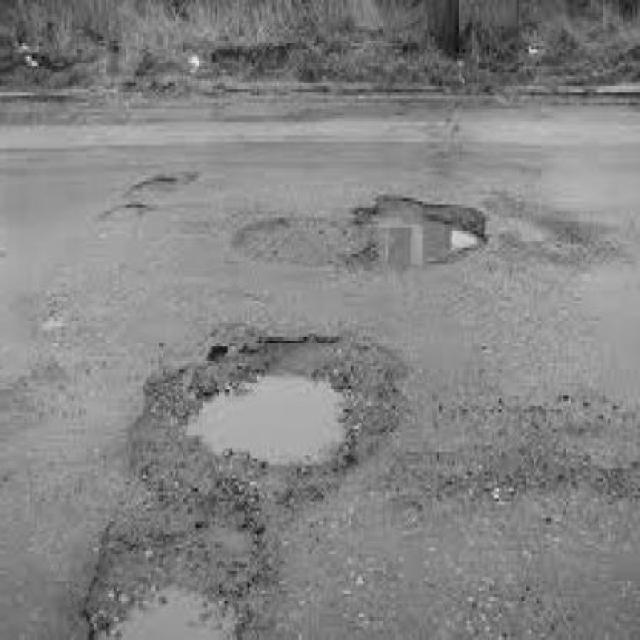pothole: (128, 320, 415, 502), (348, 185, 494, 268)
